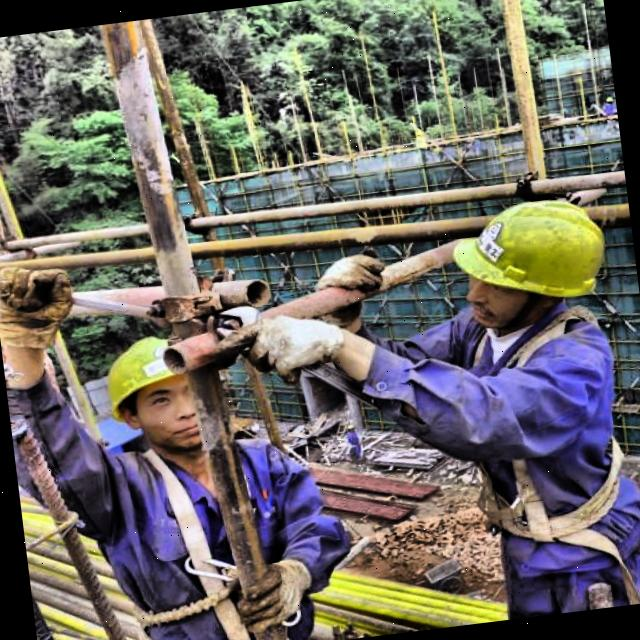helmet: (438, 186, 626, 338), (91, 326, 222, 461)
